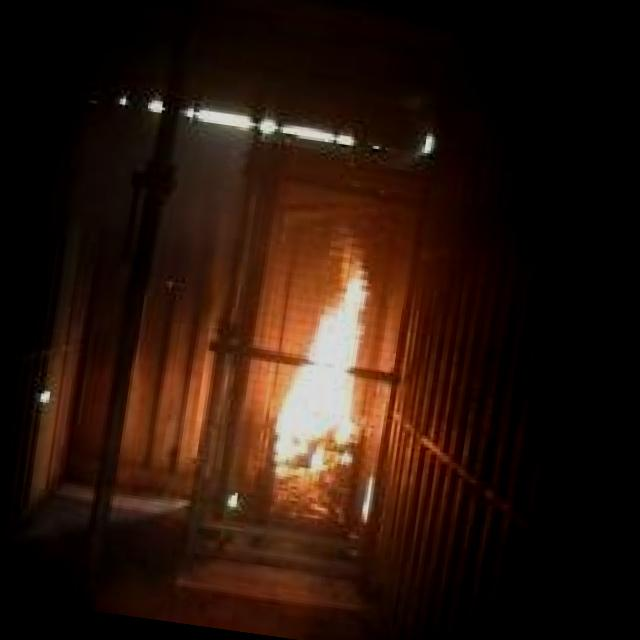fire: (260, 237, 418, 518)
